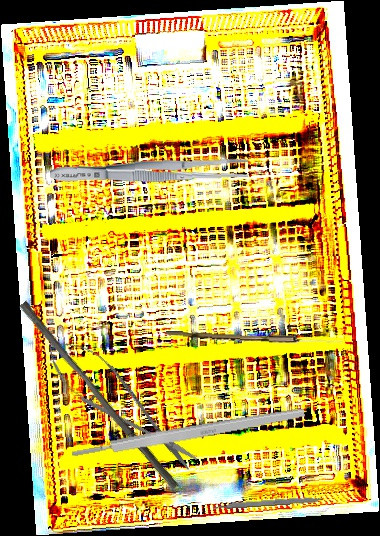Dressing Forceps: (49, 154, 249, 188)
Micro Scissor: (34, 325, 209, 483)
Pusher: (12, 300, 187, 490)
Scalpel Handle: (70, 405, 306, 461), (212, 495, 324, 510)
Surgical Spoon: (165, 330, 344, 346)
